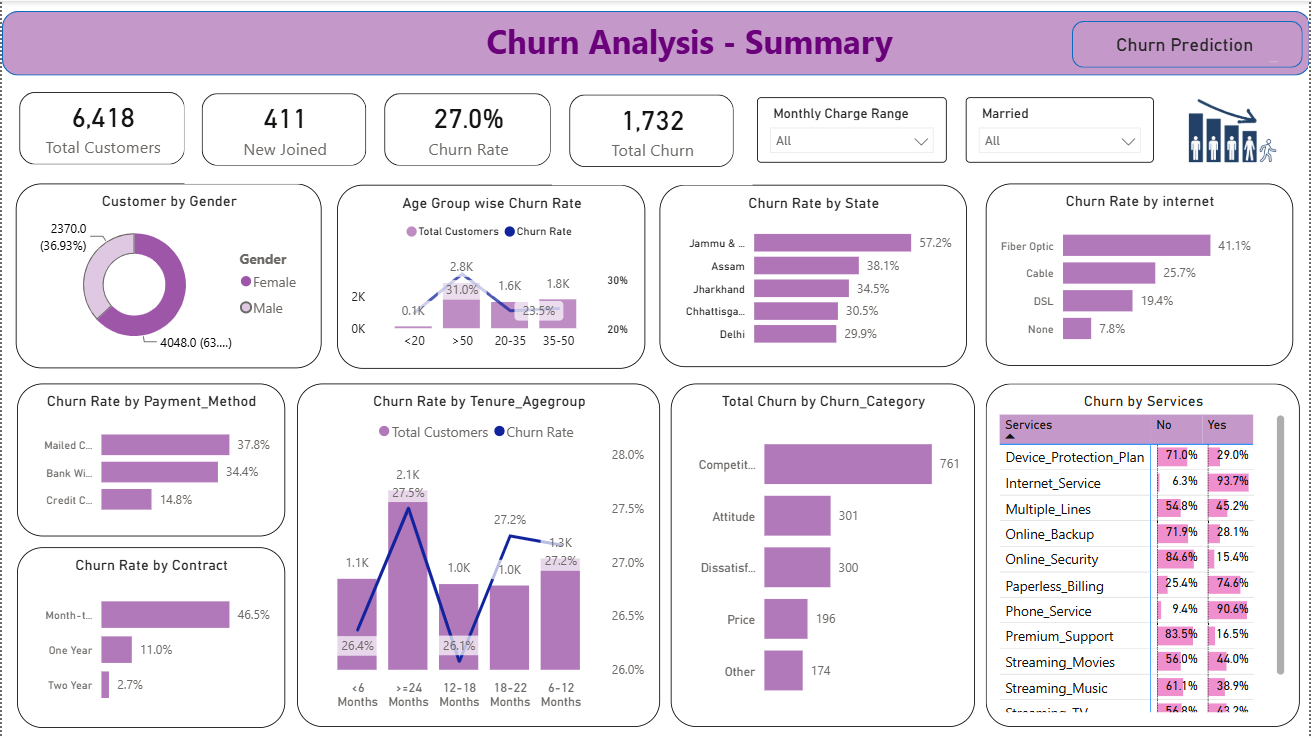

Layout of this report page (visuals, bound fields, positions):
{"tool":"powerbi","page":{"name":"Summary","canvas":[1280,720],"ordinal":0},"visuals":[{"type":"cardVisual","fields":{"Data":["Measures (2).Total Customers"]},"box":[0,72.7,196.2,105.7],"z":0},{"type":"donutChart","title":"Customer by Gender","fields":{"Category":["prod_Churn.Gender"],"Y":["CountNonNull(prod_Churn.Customer_ID)"]},"box":[13.7,178.4,299.1,181.1],"z":1000},{"type":"lineStackedColumnComboChart","title":"Age Group wise Churn Rate","fields":{"Category":["Mapping_Age.Age_Group"],"Y":["Measures (2).Total Customers"],"Y2":["Measures (2).Churn Rate"]},"box":[328,179.8,301.9,179.8],"z":2000},{"type":"clusteredBarChart","fields":{"Category":["prod_Churn.Payment_Method"],"Y":["Measures (2).Churn Rate"]},"box":[15.1,374.6,262.1,149.6],"z":3000},{"type":"clusteredBarChart","fields":{"Y":["Measures (2).Churn Rate"],"Category":["prod_Churn.Contract"]},"box":[15.1,533.8,262.1,177],"z":4000},{"type":"lineStackedColumnComboChart","title":"Churn Rate by Tenure_Agegroup","fields":{"Y":["Measures (2).Total Customers"],"Category":["Mapping_Tenure.Tenure_Agegroup"],"Y2":["Measures (2).Churn Rate"]},"box":[288.2,374.6,355.4,336.2],"z":5000},{"type":"clusteredBarChart","fields":{"Category":["prod_Churn.State"],"Y":["Measures (2).Churn Rate"]},"box":[643.6,179.8,300.5,178.4],"z":6000},{"type":"clusteredBarChart","fields":{"Category":["prod_Churn.Churn_Category"],"Y":["Measures (2).Total Churn"]},"box":[654.5,374.6,297.8,336.2],"z":7000},{"type":"clusteredBarChart","title":"Churn Rate by internet","fields":{"Category":["prod_Churn.Internet_Type"],"Y":["Measures (2).Churn Rate"]},"box":[961.9,178.4,300.5,178.4],"z":8000},{"type":"pivotTable","title":"Churn by Services","fields":{"Rows":["prod_services.Services"],"Columns":["prod_services.Status"],"Values":["Sum(prod_services.Churn_Status)"]},"box":[961.9,374.6,307.4,336.2],"z":9000},{"type":"slicer","fields":{"Values":["prod_services.Monthly Charge Status"]},"box":[738.6,94.3,185.7,64.3],"z":10000},{"type":"slicer","fields":{"Values":["prod_Churn.Married"]},"box":[942.9,94.3,184.3,64.3],"z":11000},{"type":"shape","box":[0,9.6,1280.3,63.1],"z":12000},{"type":"textbox","box":[452.8,12.3,440.5,59],"z":13000},{"type":"cardVisual","fields":{"Data":["Measures (2).New Joined"]},"box":[178.6,72.9,195.7,105.7],"z":14000},{"type":"cardVisual","fields":{"Data":["Measures (2).Churn Rate"]},"box":[357.1,72.9,197.1,105.7],"z":15000},{"type":"cardVisual","fields":{"Data":["Measures (2).Total Churn"]},"box":[538.6,74.3,195.7,105.7],"z":16000},{"type":"shape","box":[1047.1,20,225.7,45.7],"z":17000},{"type":"textbox","title":"Churn Prediction","box":[1061.4,31.4,191.4,32.9],"z":18000},{"type":"image","box":[1127.1,74.3,152.9,101.4],"z":18001}]}

Visuals, with their boxes in screenshot pixels (x1, y1, x2, y2), scaled from the page's 1280x720 canvas onto the 1312x736 screenshot:
cardVisual - Measures (2).Total Customers: (0,74,201,182)
"Customer by Gender" donutChart: (14,182,321,367)
"Age Group wise Churn Rate" lineStackedColumnComboChart: (336,184,646,368)
clusteredBarChart - prod_Churn.Payment_Method x Measures (2).Churn Rate: (15,383,284,536)
clusteredBarChart - Measures (2).Churn Rate x prod_Churn.Contract: (15,546,284,727)
"Churn Rate by Tenure_Agegroup" lineStackedColumnComboChart: (295,383,660,727)
clusteredBarChart - prod_Churn.State x Measures (2).Churn Rate: (660,184,968,366)
clusteredBarChart - prod_Churn.Churn_Category x Measures (2).Total Churn: (671,383,976,727)
"Churn Rate by internet" clusteredBarChart: (986,182,1294,365)
"Churn by Services" pivotTable: (986,383,1301,727)
slicer - prod_services.Monthly Charge Status: (757,96,947,162)
slicer - prod_Churn.Married: (966,96,1155,162)
shape: (0,10,1311,74)
textbox: (464,13,916,73)
cardVisual - Measures (2).New Joined: (183,75,384,183)
cardVisual - Measures (2).Churn Rate: (366,75,568,183)
cardVisual - Measures (2).Total Churn: (552,76,753,184)
shape: (1073,20,1305,67)
"Churn Prediction" textbox: (1088,32,1284,66)
image: (1155,76,1311,180)
